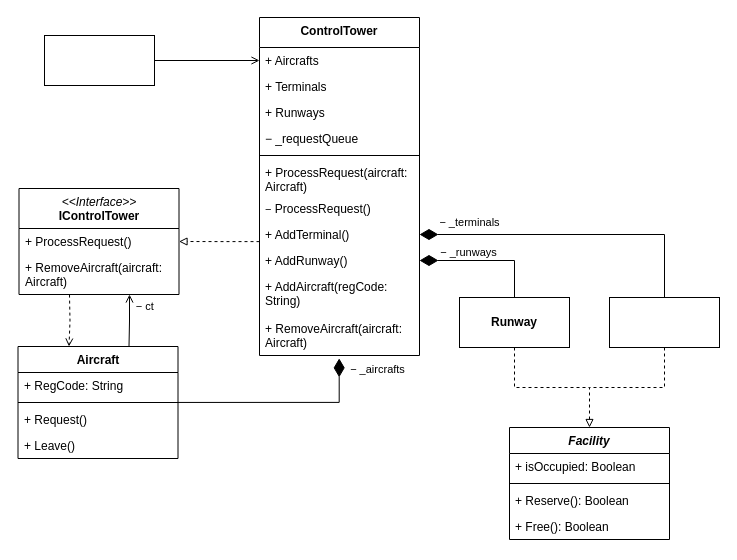
This 737x560 diagram has some shape labels left out. The shapes that lost their labels are listed below. From the top down, each one's centre as x and y in pixels, then its label:
At point (99, 60): "Client".
At point (664, 322): "Terminal".
